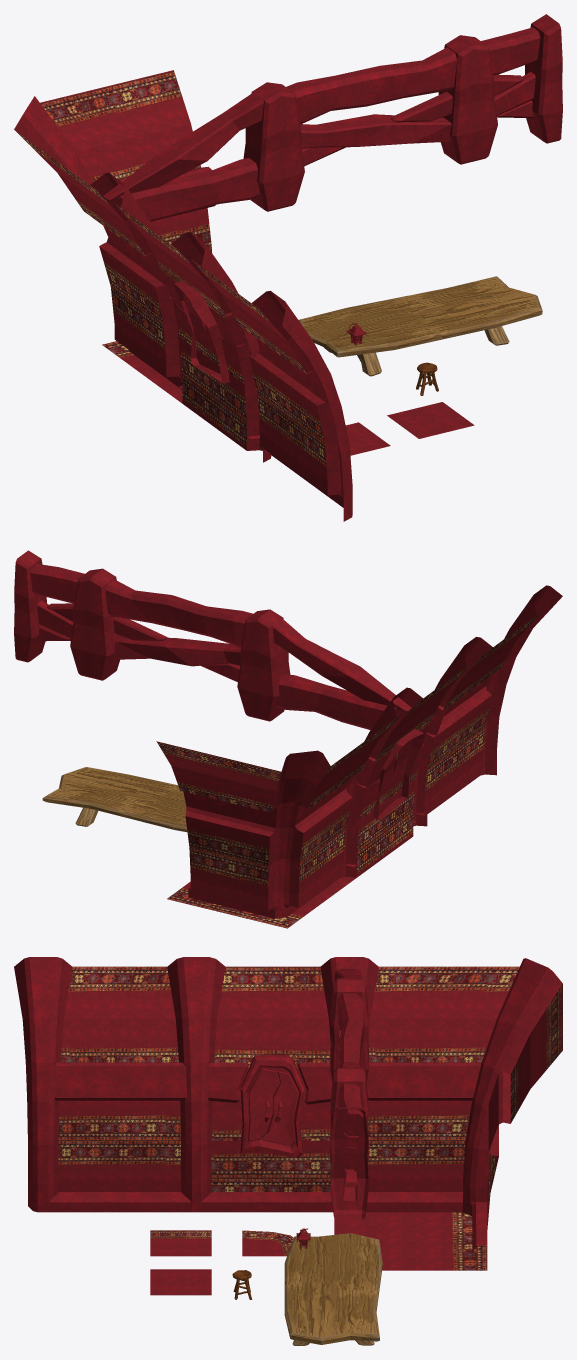
The model's file is MP_FantasyAssets.fbx.
3 renders of one model, top to bottom at view 1: azimuth 30°, elevation 25°; view 2: azimuth 150°, elevation 25°; view 3: azimuth 270°, elevation 25°, orthographic. The views are drawn at different scales.
Visible parts, largest first — view 1: WallCorner, TrussLarge, Wall, WallWindow, TrussEnd, Table, TrussCenter, RugCenter, Floor, RugEdge; view 2: WallCorner, TrussLarge, WallWindow, Wall, TrussEnd, TrussCenter, Table, Floor; view 3: WallCorner, Wall, WallWindow, Table, Floor, TrussCenter, TrussLarge, RugEdge, RugCenter, RugCorner.
Boxes of the visible parts, x1,y1,x2,y2 form: WallCorner: (14,70,215,389); TrussLarge: (267,35,476,208); Wall: (192,260,352,521); WallWindow: (114,203,271,462); TrussEnd: (103,82,283,221); Table: (298,276,542,376); TrussCenter: (460,14,562,161); RugCenter: (387,402,474,438); Floor: (102,341,182,403); RugEdge: (345,422,390,455); WallCorner: (156,687,422,918); TrussLarge: (88,569,269,718); WallWindow: (339,637,492,878); Wall: (416,585,562,815); TrussEnd: (256,609,411,729); TrussCenter: (14,550,102,677); Table: (42,767,187,832); Floor: (167,877,356,928); WallCorner: (320,957,562,1251); Wall: (14,957,191,1212); WallWindow: (167,957,333,1212); Table: (284,1233,382,1345); Floor: (334,1212,487,1270); TrussCenter: (330,1069,368,1220); TrussLarge: (330,979,368,1148); RugEdge: (150,1230,211,1256); RugCenter: (150,1269,211,1295); RugCorner: (242,1230,293,1256).
Bounding box in the file's own units: 1601 × 980 × 1792.
